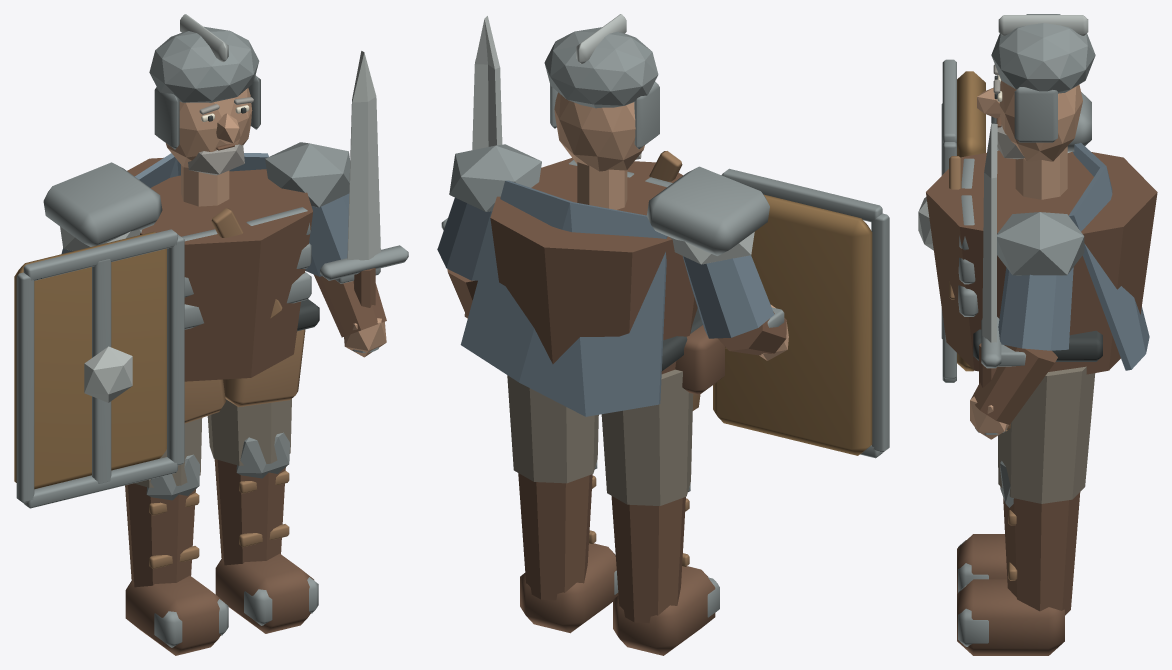
Rendered from model_luoduo.glb.
The picture shows the model from 3 angles, left to right: view 1: azimuth 30°, elevation 25°; view 2: azimuth 150°, elevation 25°; view 3: azimuth 270°, elevation 25°; orthographic projection. The views are drawn at different scales.
Parts seen in each view (by area): view 1: shield timber core.001, coat torso.005, extra raised shoulder plate.001, command helmet crown, tapered steel blade.001, shin leather boot.011, shin leather boot.010, boot toe.010, boot toe.011, shield side binding.002, shoulder guard.007, shield side binding.003 (+25 smaller); view 2: shield timber core.001, coat torso.005, short travel cloak.004, trouser upper leg.010, shin leather boot.010, shin leather boot.011, extra raised shoulder plate.001, trouser upper leg.011, command helmet crown, upper sleeve.010, head.005, boot toe.010 (+15 smaller); view 3: coat torso.005, trouser upper leg.011, shin leather boot.011, command helmet crown, boot toe.011, upper sleeve.011, short travel cloak.004, shoulder guard.007, forearm leather bracer.011, tapered steel blade.001, head.005, shield timber core.001 (+21 smaller).
Boxes of the visible parts, <box> form: shield timber core.001: <box>14,231,166,489</box>; coat torso.005: <box>127,157,312,381</box>; extra raised shoulder plate.001: <box>43,162,162,246</box>; command helmet crown: <box>149,26,259,102</box>; tapered steel blade.001: <box>347,51,380,260</box>; shin leather boot.011: <box>214,459,285,565</box>; shin leather boot.010: <box>125,483,195,587</box>; boot toe.010: <box>125,575,224,655</box>; boot toe.011: <box>215,553,314,633</box>; shield side binding.002: <box>16,272,34,502</box>; shoulder guard.007: <box>265,142,350,207</box>; shield side binding.003: <box>167,235,184,465</box>; shield timber core.001: <box>713,194,872,455</box>; coat torso.005: <box>490,158,697,374</box>; short travel cloak.004: <box>460,180,667,416</box>; trouser upper leg.010: <box>601,369,693,505</box>; shin leather boot.010: <box>611,496,685,623</box>; shin leather boot.011: <box>518,473,592,600</box>; extra raised shoulder plate.001: <box>646,166,769,255</box>; trouser upper leg.011: <box>507,375,598,483</box>; command helmet crown: <box>544,27,658,108</box>; upper sleeve.010: <box>682,255,774,338</box>; head.005: <box>554,92,644,171</box>; boot toe.010: <box>613,566,715,655</box>; coat torso.005: <box>926,150,1157,374</box>; trouser upper leg.011: <box>998,366,1095,503</box>; shin leather boot.011: <box>1003,492,1080,615</box>; command helmet crown: <box>991,14,1095,93</box>; boot toe.011: <box>957,579,1064,655</box>; upper sleeve.011: <box>998,267,1073,350</box>; short travel cloak.004: <box>1068,142,1149,370</box>; shoulder guard.007: <box>997,212,1084,275</box>; forearm leather bracer.011: <box>971,345,1057,424</box>; tapered steel blade.001: <box>982,123,997,342</box>; head.005: <box>999,80,1082,161</box>; shield timber core.001: <box>957,71,985,371</box>.
Bounding box in the file's own units: 1.36 × 1.87 × 0.6645.
